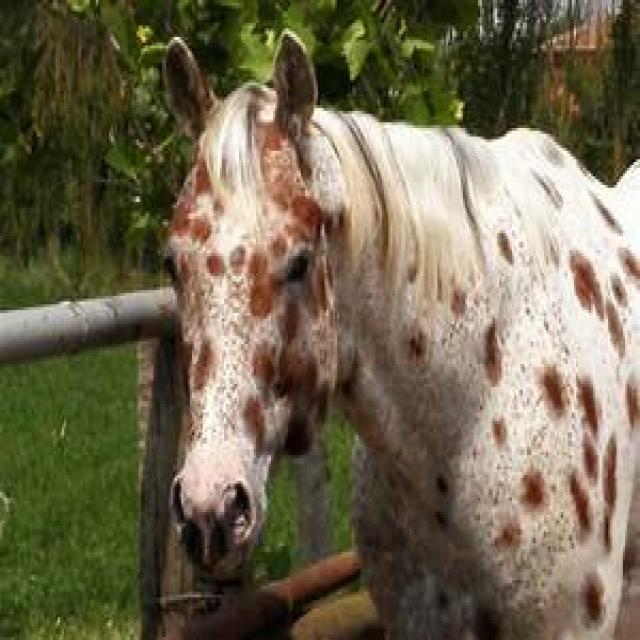horse: (160, 34, 640, 640)
